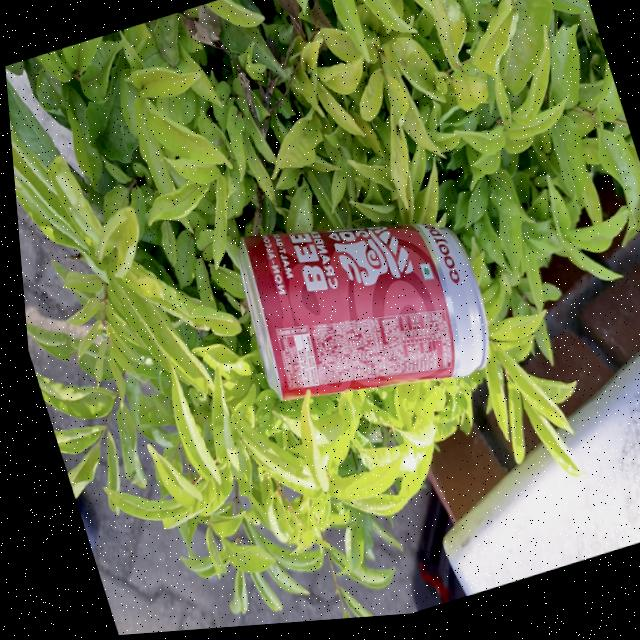Coolberg: (226, 184, 494, 432)
